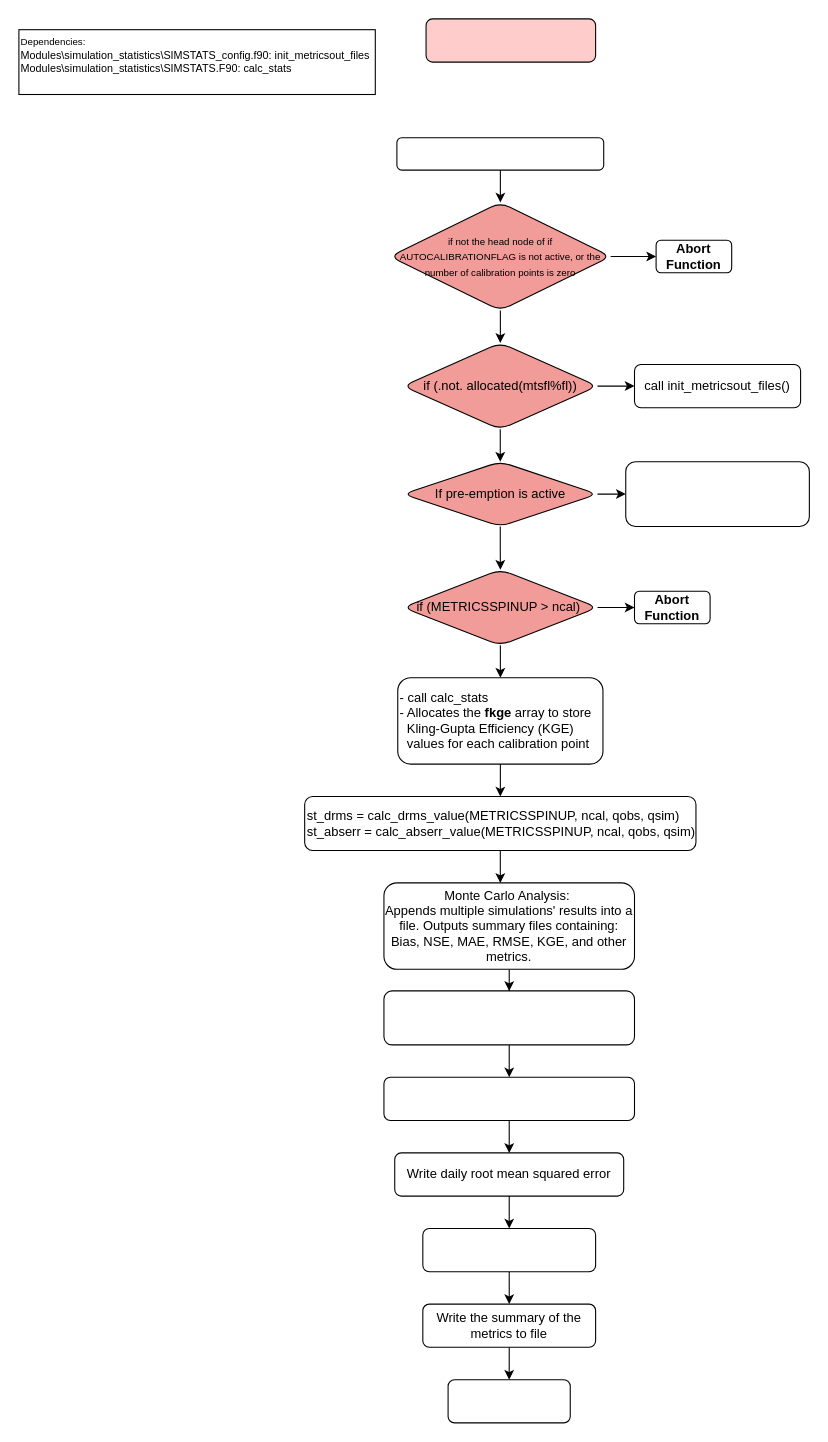
The diagram is 828 pixels wide and 1442 high, and some of its shapes have lost their labels. Here are the shapes that lost their labels. From the top down, the centre of each, then its label:
point (510, 40): SIMSTATS.f90
point (500, 153): stats_write(fls)
point (717, 493): Write intermediate metrics into file name from mtsfl%fl(mtsk%fo)%fn
point (508, 1017): Write Nash-Sutcliffe coefficient of daily streamflow values
point (508, 1098): Write Nash-Sutcliffe coefficient of weekly streamflow values
point (509, 1249): Write mean absolute error
point (508, 1401): end subroutine
